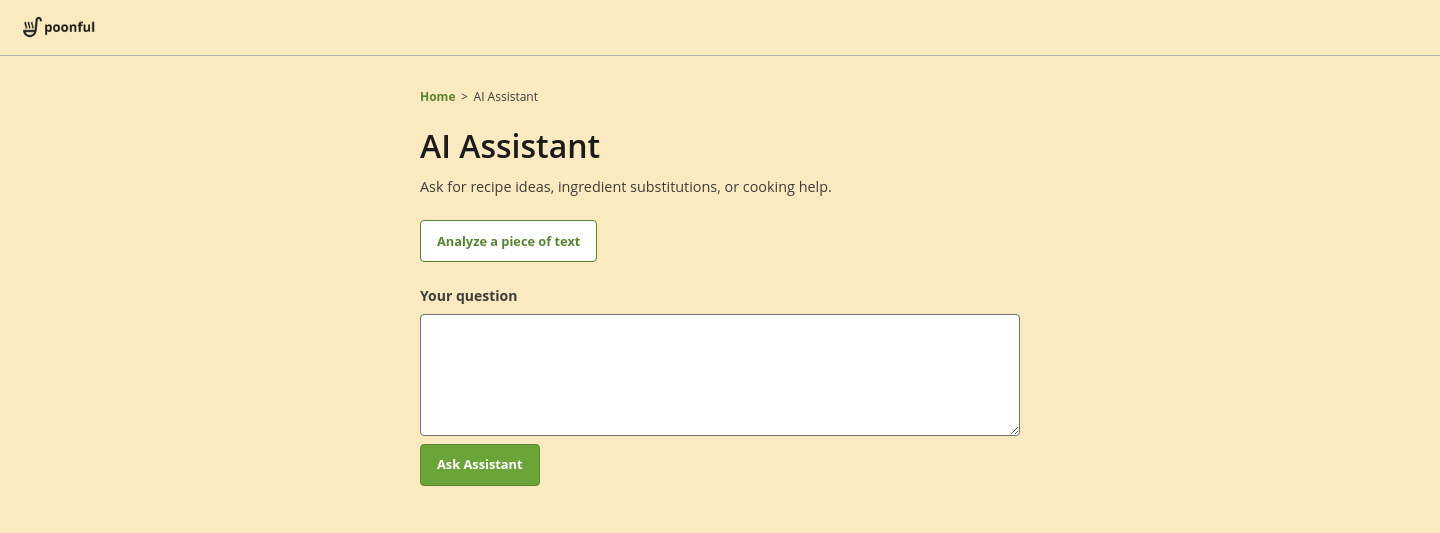
Scenario: Spoonful UI › shows a service error when the AI request fails
Type "What can I cook with lentils?" into the text box labelled "Your question" at [720, 375], box [420,314,1020,436]
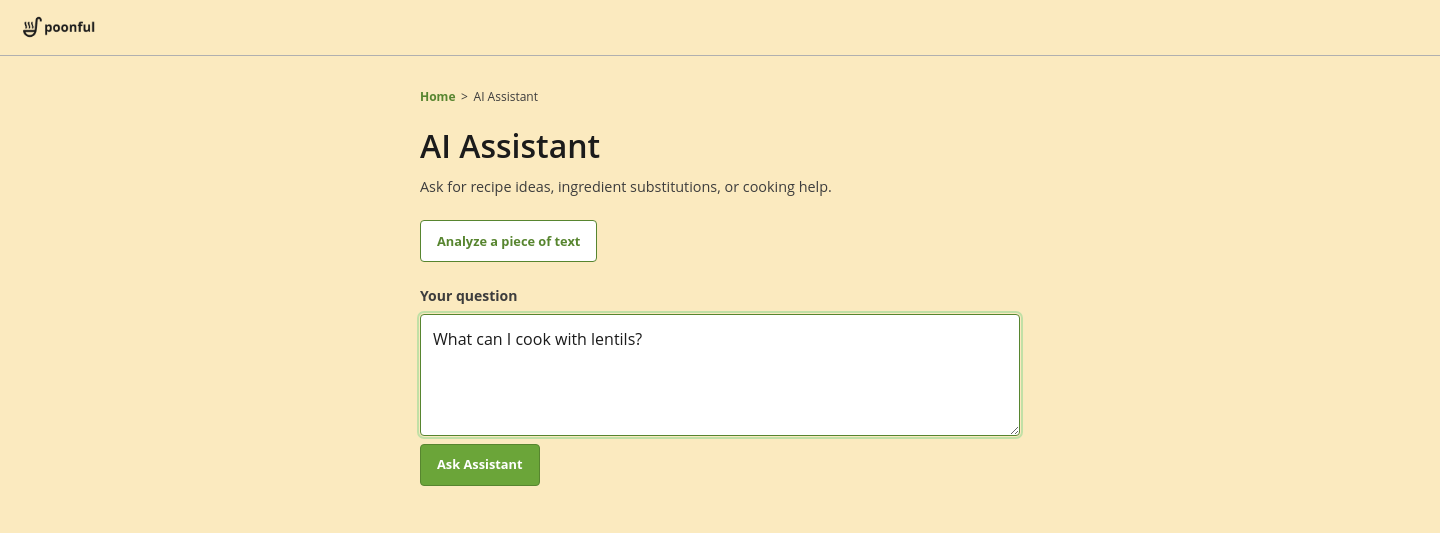
Click the button "Ask Assistant" at [480, 465], box [420,444,540,486]
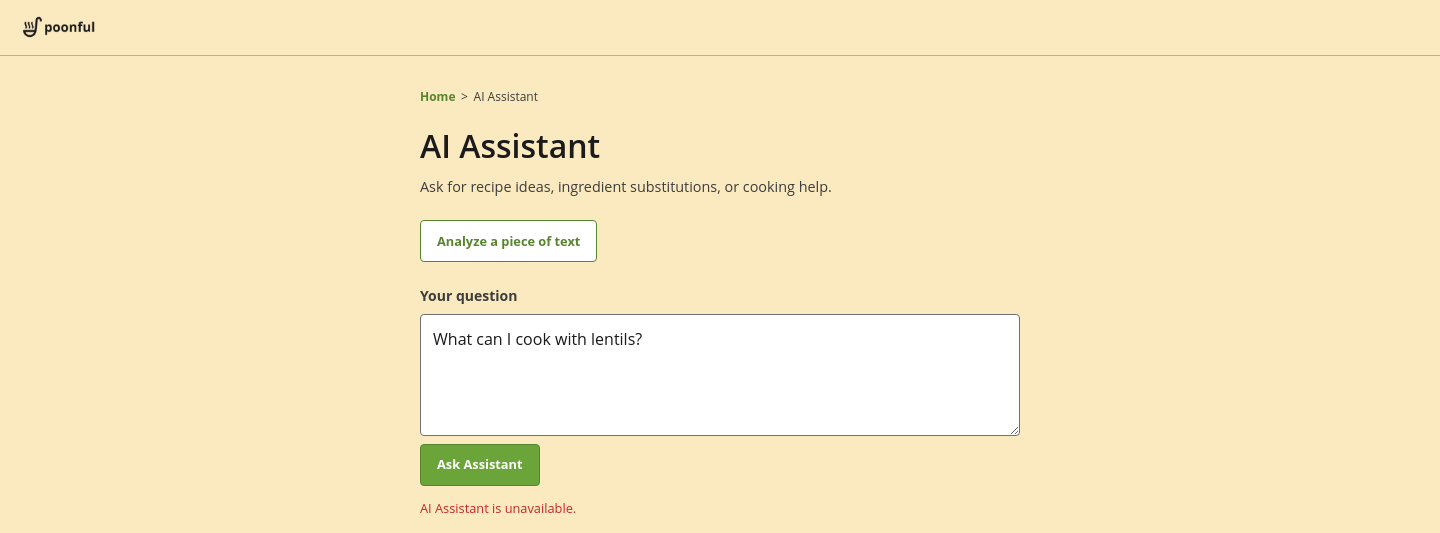
Check: the message reads "AI Assistant is unavailable.", box [420,498,576,516]
